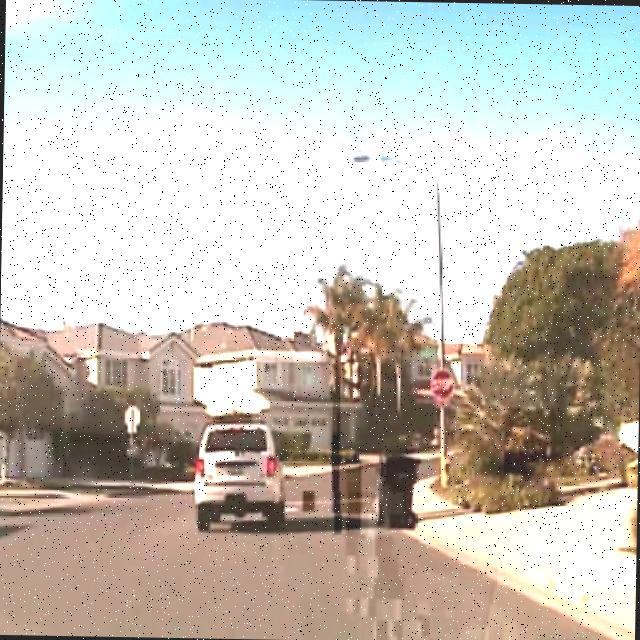Stop: (427, 364, 459, 405)
